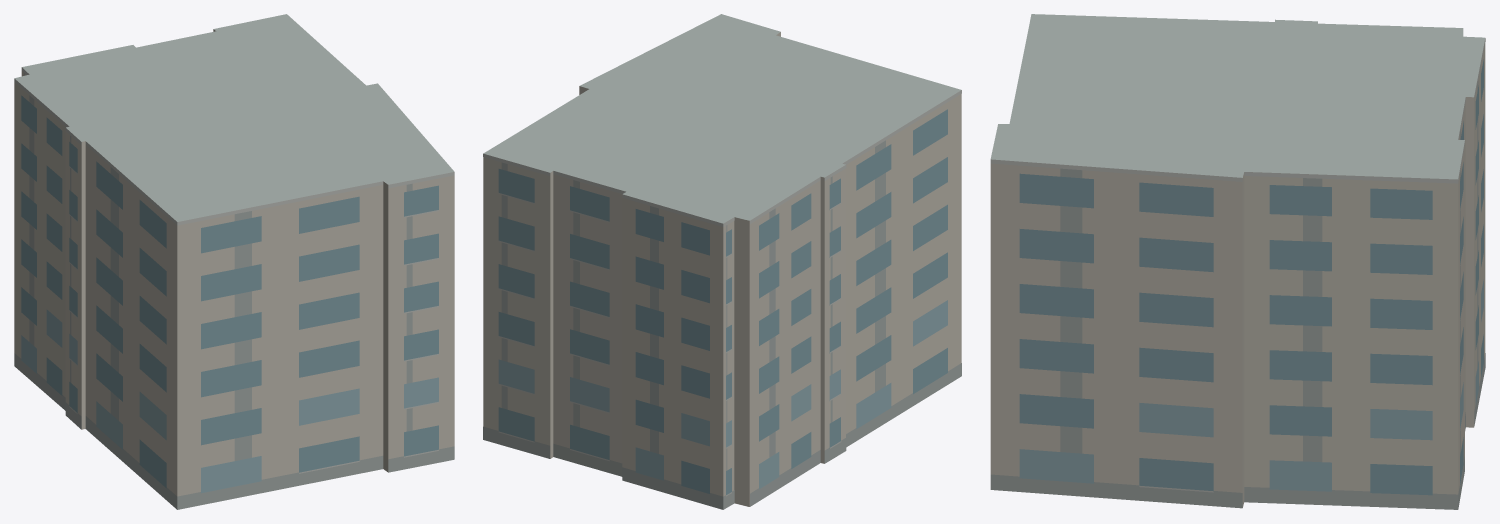
Rendered from survey-upis-32837645.glb.
3 renders of one model, left to right at view 1: azimuth 30°, elevation 25°; view 2: azimuth 150°, elevation 25°; view 3: azimuth 270°, elevation 25°, orthographic. The views are drawn at different scales.
Visible parts, largest first — view 1: survey-upis-32837645.tmp; view 2: survey-upis-32837645.tmp; view 3: survey-upis-32837645.tmp.
Part boxes in pixels (left/top/right/bottom): survey-upis-32837645.tmp: left=14, top=14, right=454, bottom=509; survey-upis-32837645.tmp: left=483, top=14, right=961, bottom=509; survey-upis-32837645.tmp: left=990, top=14, right=1485, bottom=509.
Bounding box in the file's own units: 21.11 × 19.65 × 26.68.
